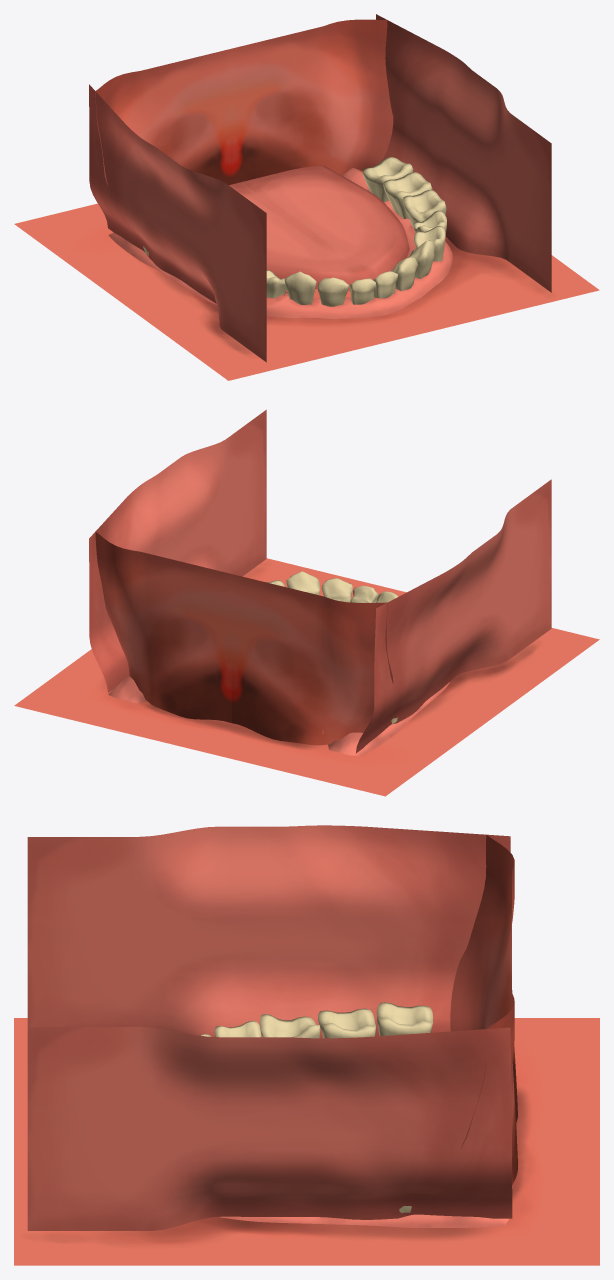
File: map_mouth.fbx
The picture shows the model from 3 angles, top to bottom: view 1: azimuth 30°, elevation 25°; view 2: azimuth 150°, elevation 25°; view 3: azimuth 270°, elevation 25°; orthographic projection. The views are drawn at different scales.
Parts seen in each view (by area): view 1: cheeks, throat, mouth_floor, tex_tongue, gums, molar_r_3, molar_r_2, molar_r_1, canine_l, incisor_l_2, premolar_r_1, canine_r (+3 smaller); view 2: cheeks, throat, mouth_floor, gums, incisor_r_2, canine_r; view 3: cheeks, mouth_floor, throat, gums, molar_l_3, molar_l_2, molar_l_1, premolar_l_2.
Part boxes in pixels (bbox=[...]): cheeks: bbox=[89, 14, 551, 362]; throat: bbox=[95, 19, 393, 185]; mouth_floor: bbox=[14, 203, 599, 380]; tex_tongue: bbox=[229, 165, 409, 290]; gums: bbox=[108, 168, 452, 319]; molar_r_3: bbox=[362, 157, 413, 202]; molar_r_2: bbox=[383, 172, 432, 218]; molar_r_1: bbox=[403, 189, 446, 227]; canine_l: bbox=[284, 271, 316, 304]; incisor_l_2: bbox=[317, 277, 349, 306]; premolar_r_1: bbox=[414, 226, 445, 261]; canine_r: bbox=[408, 240, 435, 278]; cheeks: bbox=[89, 409, 551, 753]; throat: bbox=[95, 531, 393, 745]; mouth_floor: bbox=[14, 558, 599, 796]; gums: bbox=[108, 675, 449, 756]; incisor_r_2: bbox=[321, 578, 352, 602]; canine_r: bbox=[286, 571, 320, 595]; cheeks: bbox=[27, 825, 512, 1230]; mouth_floor: bbox=[14, 1018, 599, 1265]; throat: bbox=[450, 835, 517, 1184]; gums: bbox=[219, 1214, 508, 1227]; molar_l_3: bbox=[376, 1002, 433, 1035]; molar_l_2: bbox=[318, 1008, 375, 1038]; molar_l_1: bbox=[260, 1014, 320, 1038]; premolar_l_2: bbox=[214, 1021, 261, 1037].
Size of the model in its own units: 10404 by 4162 by 10404.
6 materials, 5 textured.
